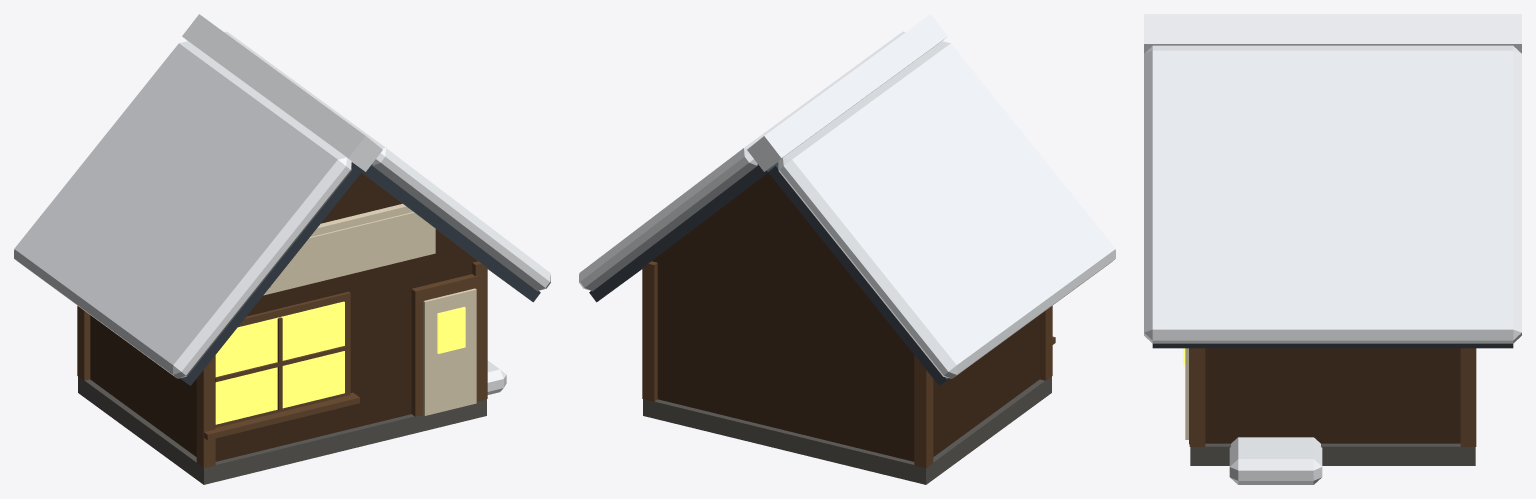
Rendered from ski-school-desk-adirondack.glb.
The picture shows the model from 3 angles, left to right: view 1: azimuth 30°, elevation 25°; view 2: azimuth 150°, elevation 25°; view 3: azimuth 270°, elevation 25°; orthographic projection. The views are drawn at different scales.
Visible parts, largest first — view 1: ski-school-desk-adirondack; view 2: ski-school-desk-adirondack; view 3: ski-school-desk-adirondack.
Part boxes in pixels (bbox=[...]): ski-school-desk-adirondack: bbox=[14, 14, 550, 484]; ski-school-desk-adirondack: bbox=[579, 14, 1115, 484]; ski-school-desk-adirondack: bbox=[1144, 14, 1521, 484].
Bounding box in the file's own units: 6.95 × 5.79 × 5.3.
